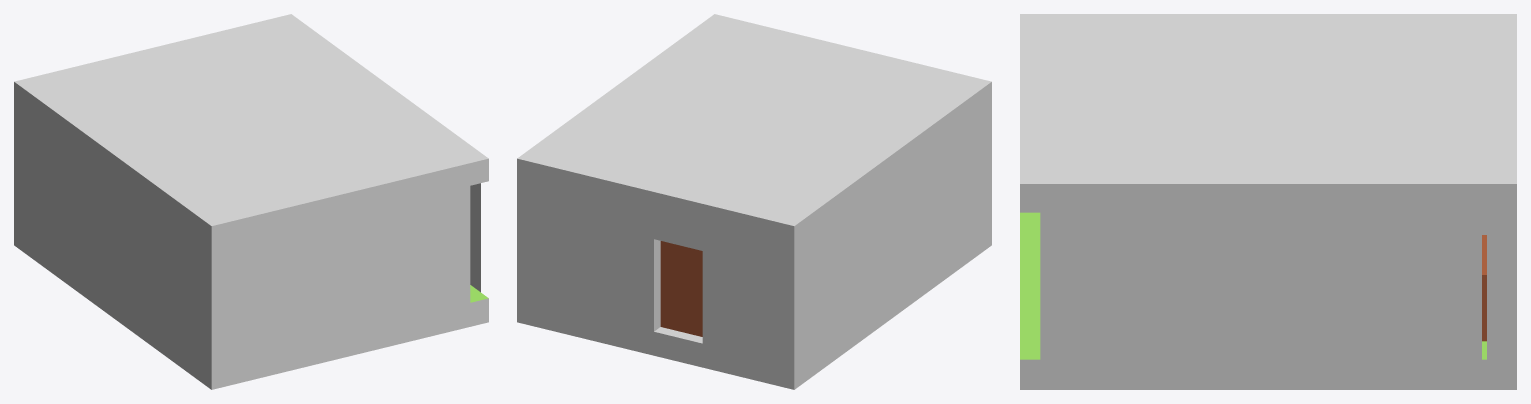
Rendered from poziom_startowy_v1.fbx.
The picture shows the model from 3 angles, left to right: view 1: azimuth 30°, elevation 25°; view 2: azimuth 150°, elevation 25°; view 3: azimuth 270°, elevation 25°; orthographic projection. The views are drawn at different scales.
Parts seen in each view (by area): view 1: sufit, Cube, sciana2, sciana1; view 2: Cube, sufit, Cube.034; view 3: sufit, sciana1, Cube, lozko1.
Part boxes in pixels (left/top/right/bottom): sufit: left=47, top=23, right=488, bottom=247; Cube: left=14, top=14, right=488, bottom=389; sciana2: left=232, top=186, right=470, bottom=360; sciana1: left=470, top=183, right=480, bottom=292; Cube: left=517, top=76, right=991, bottom=389; sufit: left=526, top=14, right=970, bottom=248; Cube.034: left=660, top=241, right=702, bottom=336; sufit: left=1020, top=26, right=1509, bottom=212; sciana1: left=1040, top=197, right=1481, bottom=363; Cube: left=1020, top=14, right=1516, bottom=389; lozko1: left=1482, top=235, right=1486, bottom=341.
Bounding box in the file's own units: 640 × 361 × 790.
